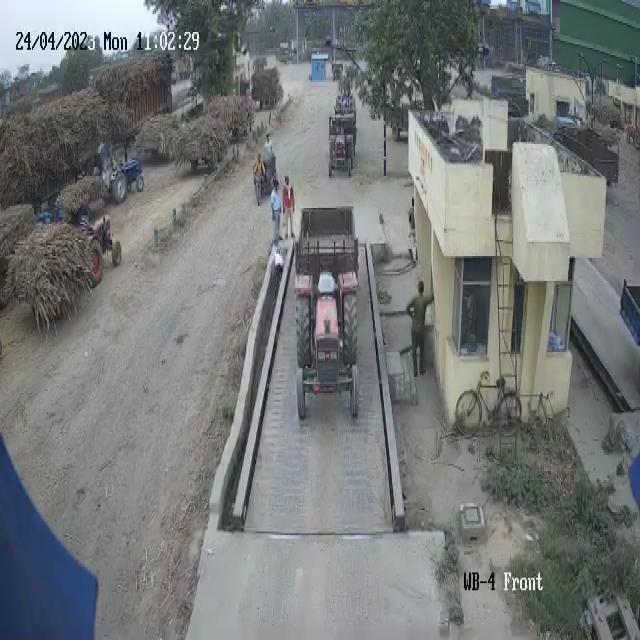Tratores - v5 YOLO V8L 2024-11-13: (284, 274, 367, 431), (66, 204, 132, 281), (98, 134, 150, 206), (318, 108, 366, 184)
